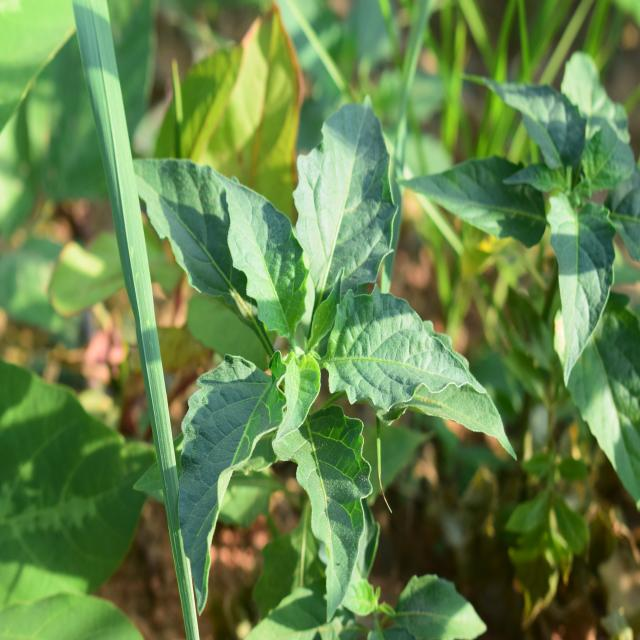Black_nightshade: (156, 101, 452, 560)
